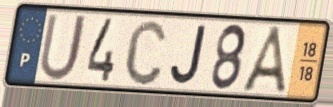4: (85, 16, 116, 84)
8: (209, 21, 247, 93)
A: (239, 24, 291, 97)
C: (122, 17, 169, 88)
J: (168, 23, 210, 87)
U: (37, 12, 90, 84)
